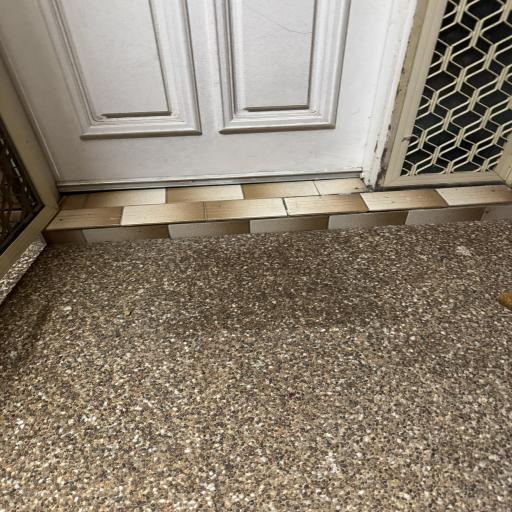step: (43, 178, 512, 242)
